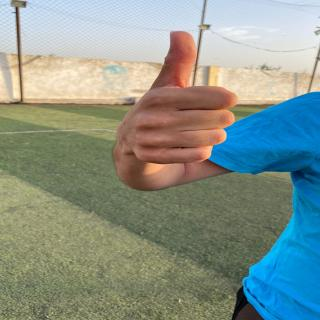ALIF: (102, 23, 270, 196)
